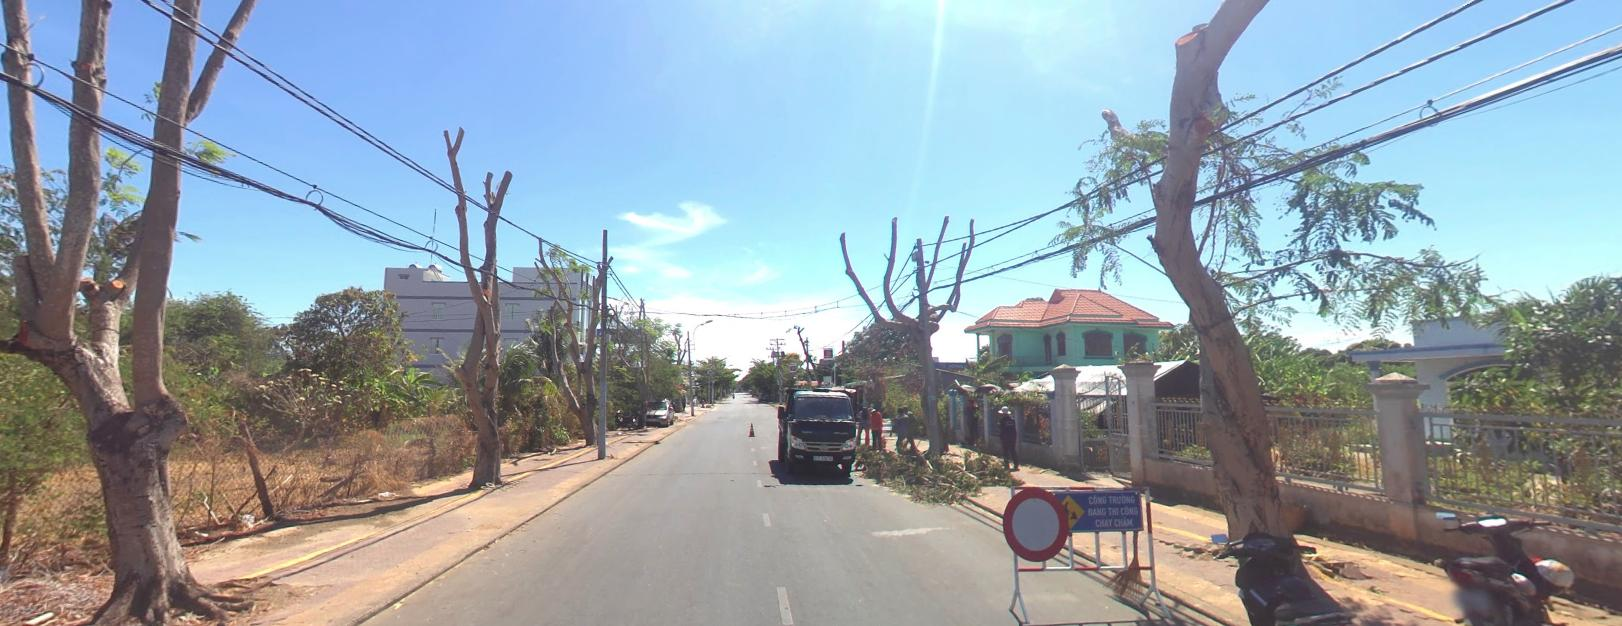Cam con lai: (1000, 481, 1070, 560), (1000, 485, 1069, 562)
